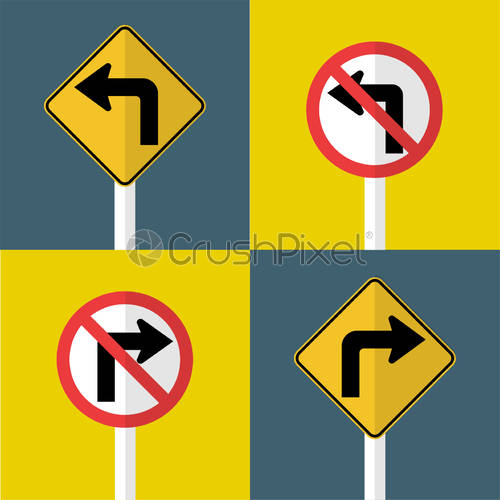left: (39, 21, 210, 183)
right: (289, 273, 458, 442)
